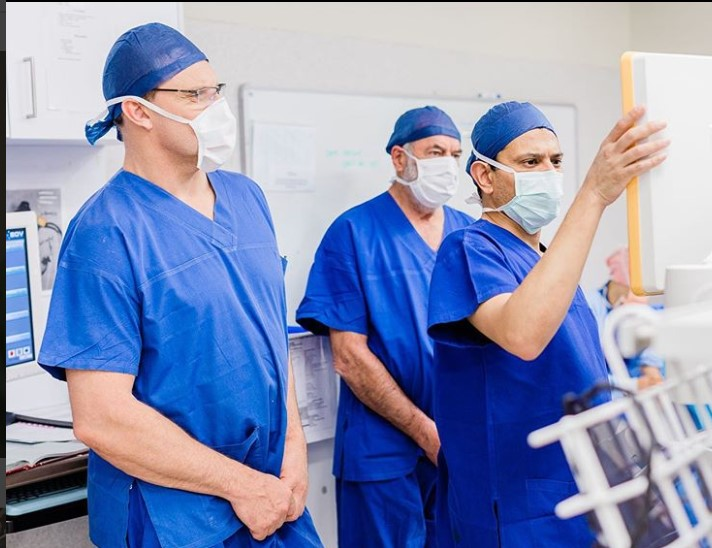face_with_mask: (103, 24, 241, 175), (464, 101, 565, 235), (388, 106, 461, 211)
